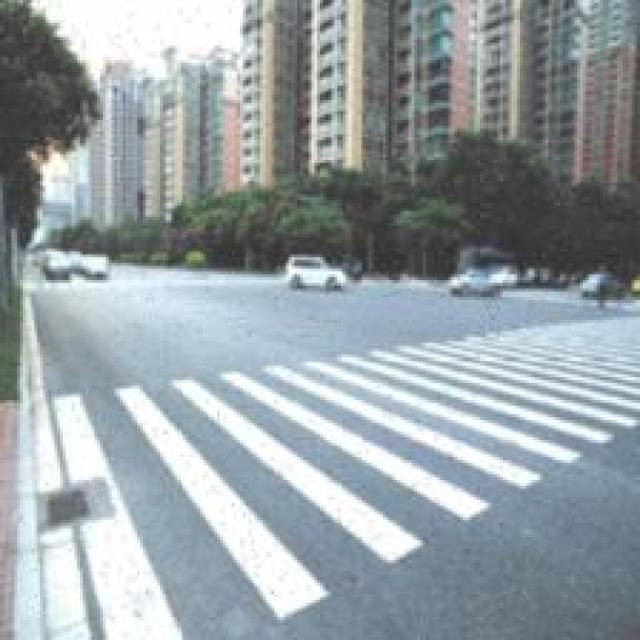crosswalk: (58, 306, 640, 640)
